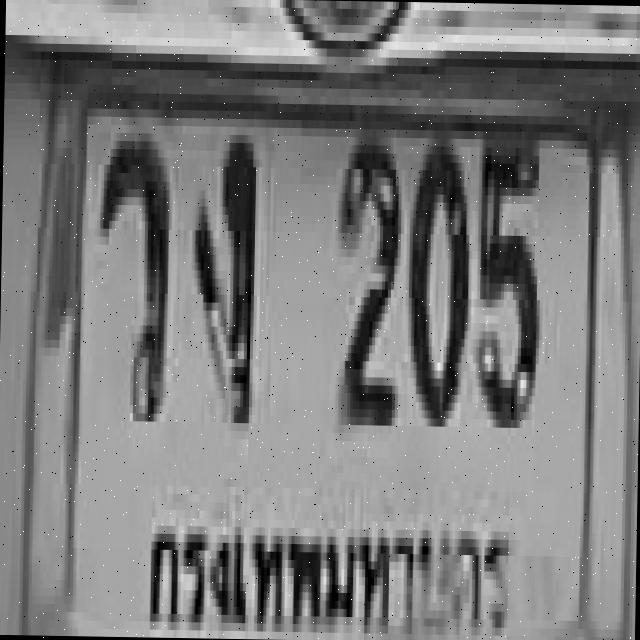0: (406, 130, 468, 418)
16NgorNgu: (189, 122, 254, 419)
2: (333, 124, 398, 413)
46WorWaen: (94, 128, 168, 417)
5: (474, 123, 540, 420)
Bangkok: (141, 499, 527, 640)
